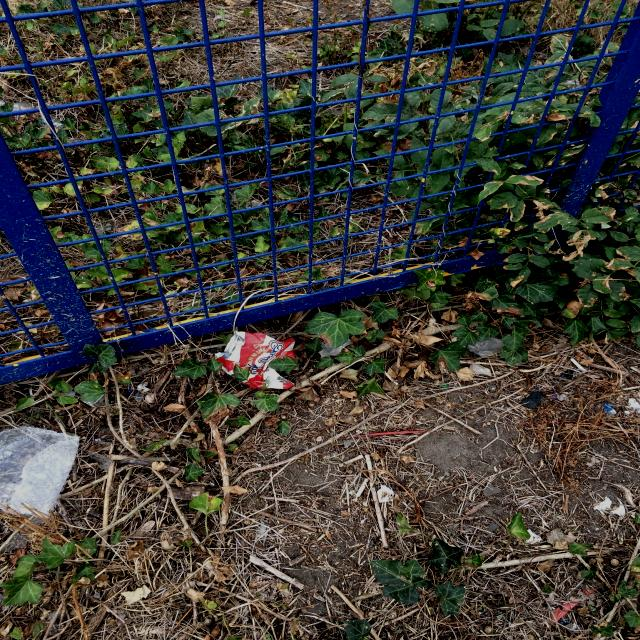Crisp packet: (215, 330, 295, 389)
Plastic film: (0, 427, 80, 518)
